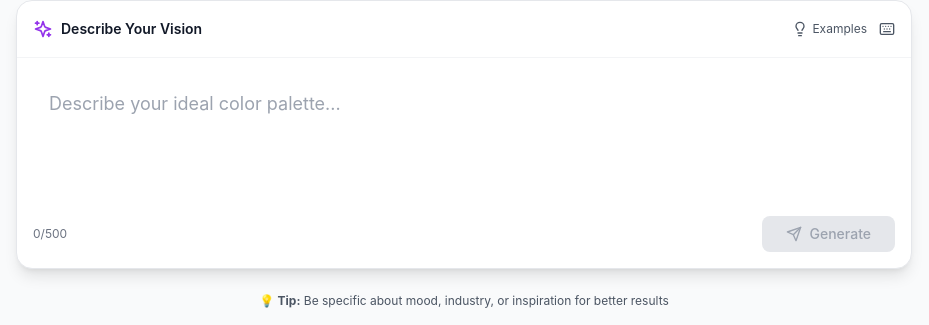
it: PromptInput › Input Validation › should show minimum character warning for short input
In the text box with placeholder "Describe your ideal color palette...": [464, 134] box [33,74,895,194], type "Short"
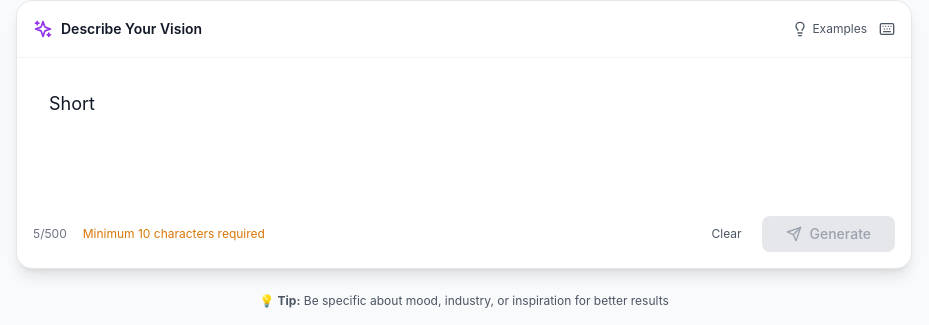
expect the text "Minimum 10 characters required" is shown: met, box [83,226,265,242]
